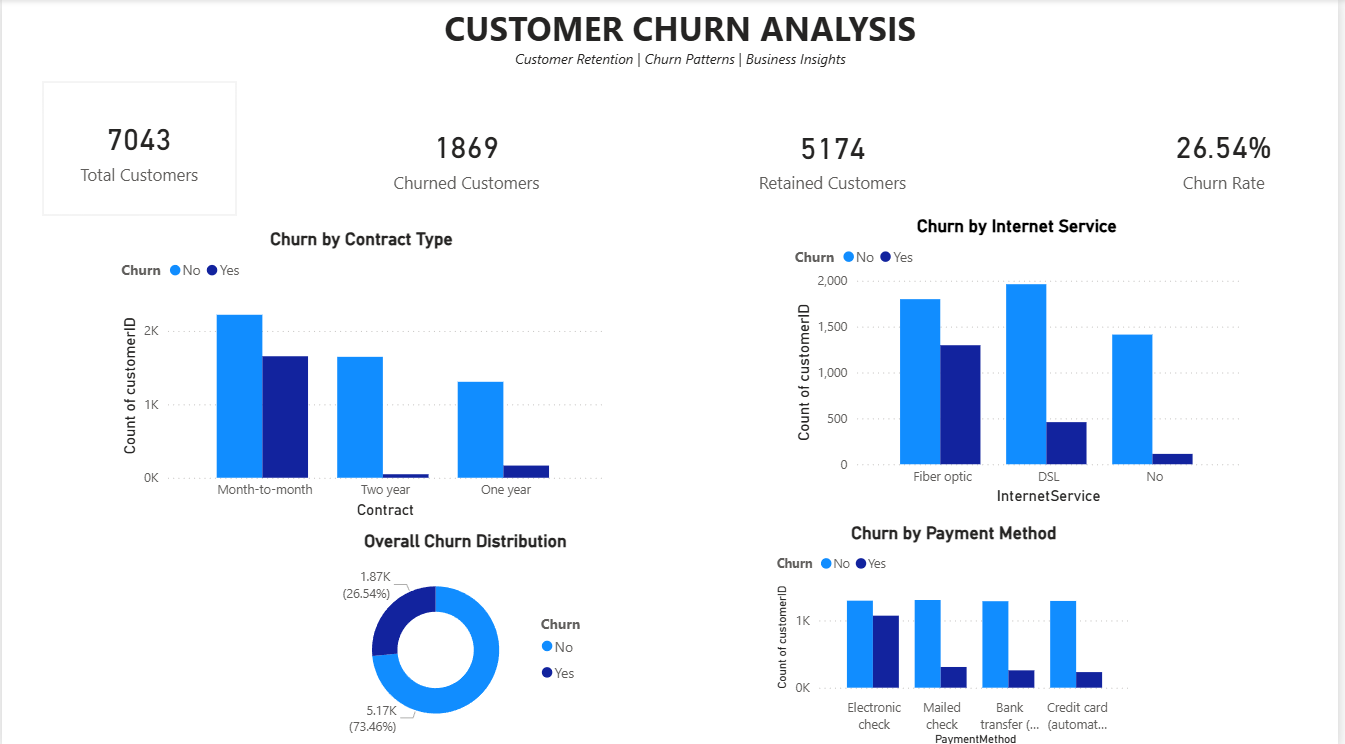

The dashboard page shown, as its layout file describes it:
{"tool":"powerbi","page":{"name":"Page 1","canvas":[1280,720],"ordinal":0},"visuals":[{"type":"card","title":"Total Customers","fields":{"Values":["Customer_churn_cleaned.Total Customers"]},"box":[39.4,78.7,184.7,128.7],"z":0},{"type":"card","fields":{"Values":["Customer_churn_cleaned.Churned Customers"]},"box":[360.4,95.4,168.1,112.1],"z":1000},{"type":"card","fields":{"Values":["Customer_churn_cleaned.Retained Customers"]},"box":[713.2,96.9,165,110.5],"z":2000},{"type":"card","fields":{"Values":["Customer_churn_cleaned.Churn Rate","select"]},"box":[1105.4,95.4,130.2,112.1],"z":3000},{"type":"clusteredColumnChart","title":"Churn by Contract Type","fields":{"Category":["Customer_churn_cleaned.Contract"],"Y":["CountNonNull(Customer_churn_cleaned.customerID)"],"Series":["Customer_churn_cleaned.Churn"]},"box":[109,219.6,470.9,281.6],"z":4000},{"type":"clusteredColumnChart","title":"\tChurn by Internet Service","fields":{"Series":["Customer_churn_cleaned.Churn"],"Y":["CountNonNull(Customer_churn_cleaned.customerID)"],"Category":["Customer_churn_cleaned.InternetService"]},"box":[755.6,207.4,436.1,281.6],"z":5000},{"type":"clusteredColumnChart","title":"Churn by Payment Method","fields":{"Series":["Customer_churn_cleaned.Churn"],"Category":["Customer_churn_cleaned.PaymentMethod"],"Y":["CountNonNull(Customer_churn_cleaned.customerID)"]},"box":[737.4,501.2,349.8,218],"z":6000},{"type":"donutChart","title":"Overall Churn Distribution","fields":{"Category":["Customer_churn_cleaned.Churn"],"Y":["CountNonNull(Customer_churn_cleaned.customerID)"]},"box":[309.2,509.1,270.4,210],"z":7000},{"type":"textbox","box":[99.9,0,1102.3,78.7],"z":8000}]}

Visuals, with their boxes in screenshot pixels (x1, y1, x2, y2), scaled from the page's 1280x720 canvas onto the 1345x744 screenshot:
"Total Customers" card: [x1=41, y1=81, x2=235, y2=214]
card - Customer_churn_cleaned.Churned Customers: [x1=379, y1=99, x2=555, y2=214]
card - Customer_churn_cleaned.Retained Customers: [x1=749, y1=100, x2=923, y2=214]
card - Customer_churn_cleaned.Churn Rate x select: [x1=1162, y1=99, x2=1298, y2=214]
"Churn by Contract Type" clusteredColumnChart: [x1=115, y1=227, x2=609, y2=518]
"	Churn by Internet Service" clusteredColumnChart: [x1=794, y1=214, x2=1252, y2=505]
"Churn by Payment Method" clusteredColumnChart: [x1=775, y1=518, x2=1142, y2=743]
"Overall Churn Distribution" donutChart: [x1=325, y1=526, x2=609, y2=743]
textbox: [x1=105, y1=0, x2=1263, y2=81]
